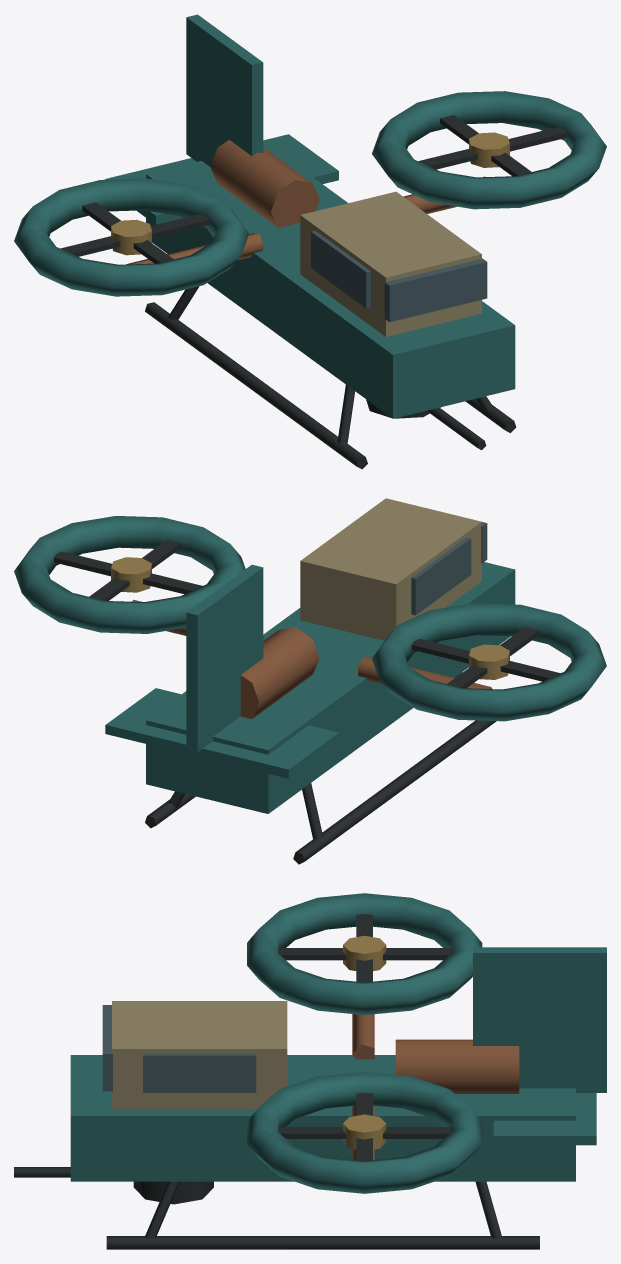
File: gunship.glb
The picture shows the model from 3 angles, top to bottom: view 1: azimuth 30°, elevation 25°; view 2: azimuth 150°, elevation 25°; view 3: azimuth 270°, elevation 25°; orthographic projection. The views are drawn at different scales.
Visible parts, largest first — view 1: body, turbine_rotor (×2); view 2: body, turbine_rotor (×2); view 3: body, turbine_rotor (×2).
Part boxes in pixels (left/top/right/bottom): body: left=14, top=14, right=606, bottom=469; turbine_rotor (×2): left=60, top=115, right=566, bottom=263; body: left=14, top=498, right=606, bottom=864; turbine_rotor (×2): left=54, top=540, right=560, bottom=688; body: left=14, top=893, right=606, bottom=1249; turbine_rotor (×2): left=278, top=914, right=451, bottom=1160.
Bounding box in the file's own units: 6.44 × 2.81 × 5.75.
